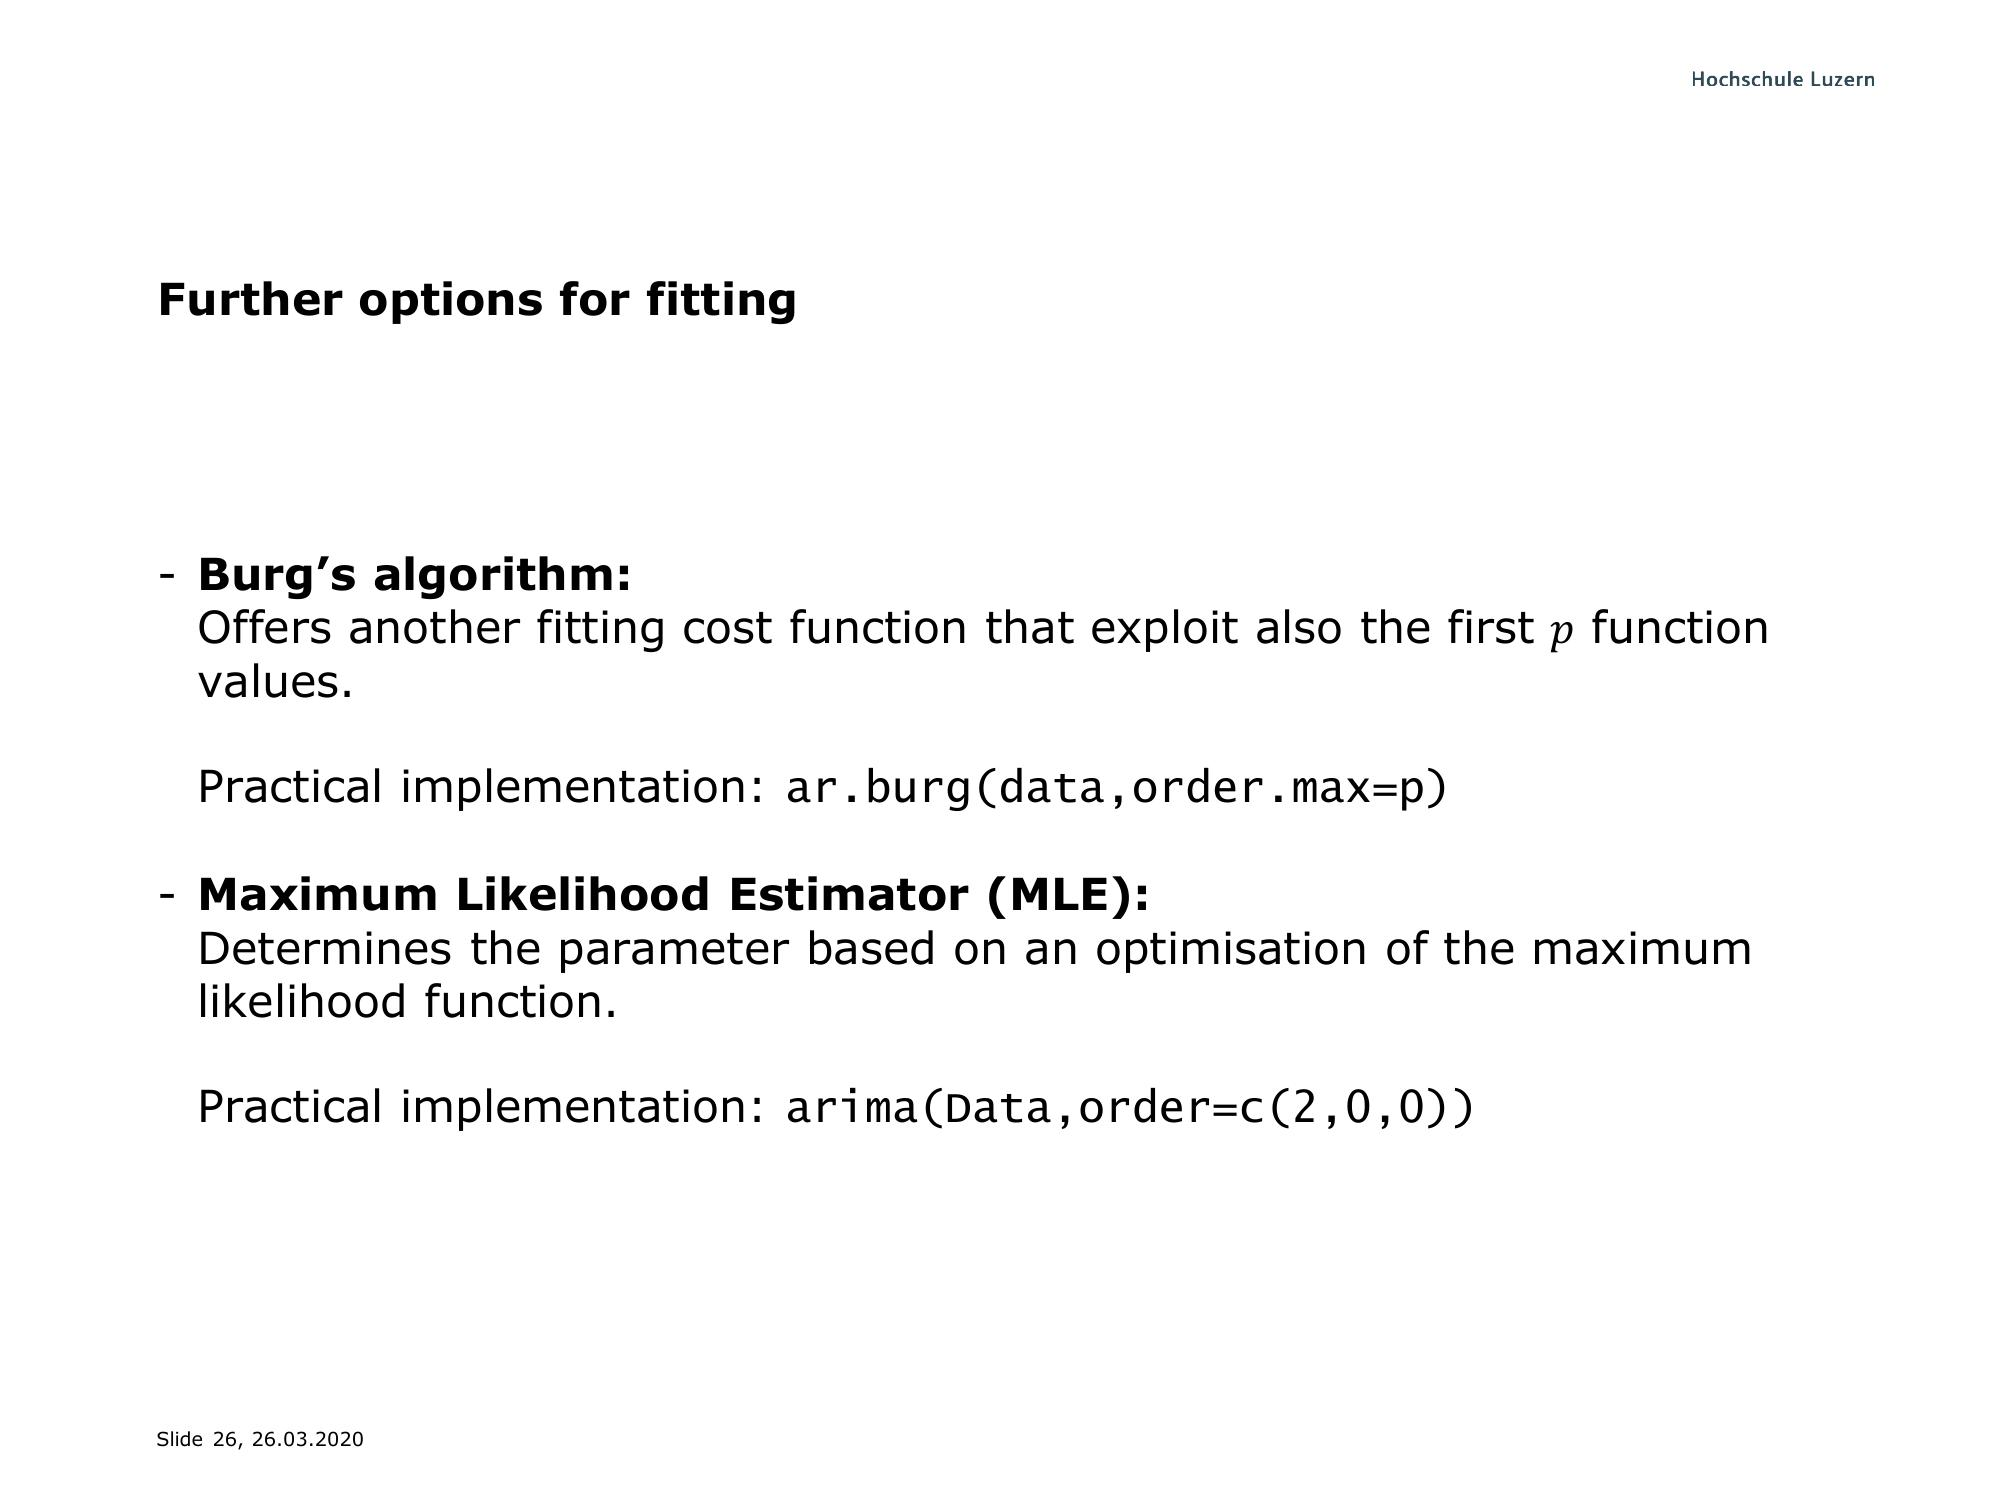Title: (98, 251, 809, 342)
